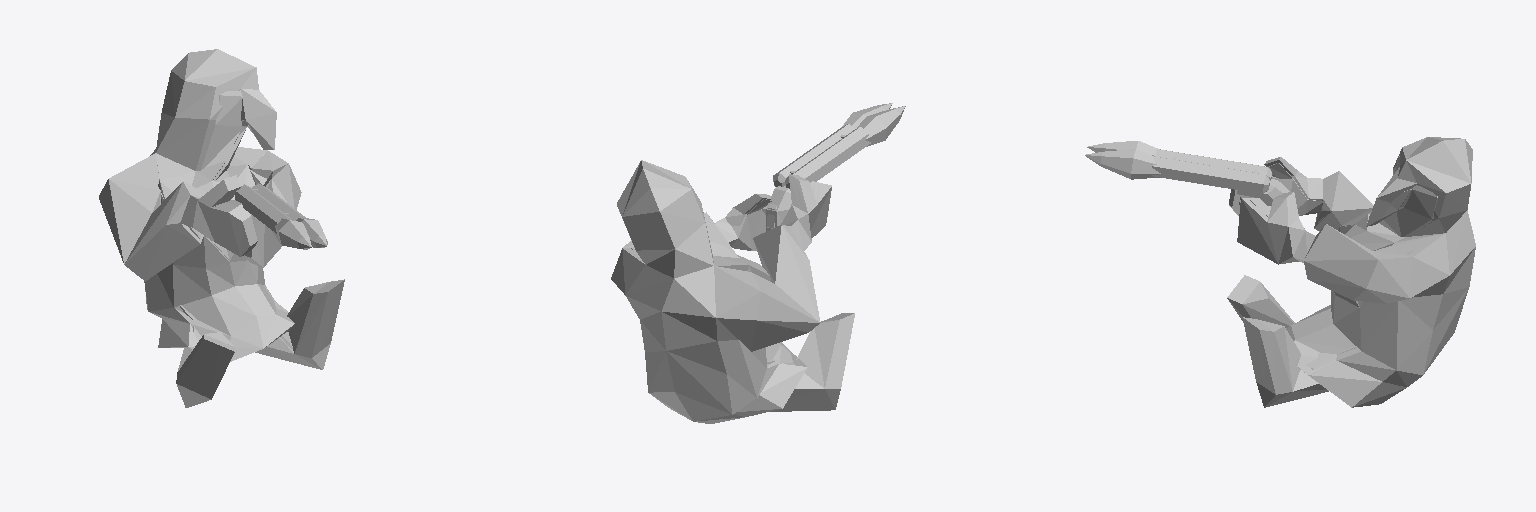
The model's file is Noita_000005.obj.
3 views of the same model, side by side, from view 1: azimuth 30°, elevation 25°; view 2: azimuth 150°, elevation 25°; view 3: azimuth 270°, elevation 25° (orthographic).
Visible parts, largest first — view 1: Noita_Plane, Shotgun_Plane.002, ShotgunMuzzle_Circle; view 2: Noita_Plane, Shotgun_Plane.002, ShotgunMuzzle_Circle; view 3: Noita_Plane, Shotgun_Plane.002, ShotgunMuzzle_Circle.
Part boxes in pixels (x1,y1,x2,y2): Noita_Plane: (99,49,344,407); Shotgun_Plane.002: (235,183,305,233); ShotgunMuzzle_Circle: (275,218,327,249); Noita_Plane: (611,160,854,423); Shotgun_Plane.002: (766,124,870,231); ShotgunMuzzle_Circle: (841,103,905,146); Noita_Plane: (1227,137,1475,407); Shotgun_Plane.002: (1152,149,1289,205); ShotgunMuzzle_Circle: (1085,141,1160,179).
Size of the model in its own units: 2.42 by 3.43 by 4.47.